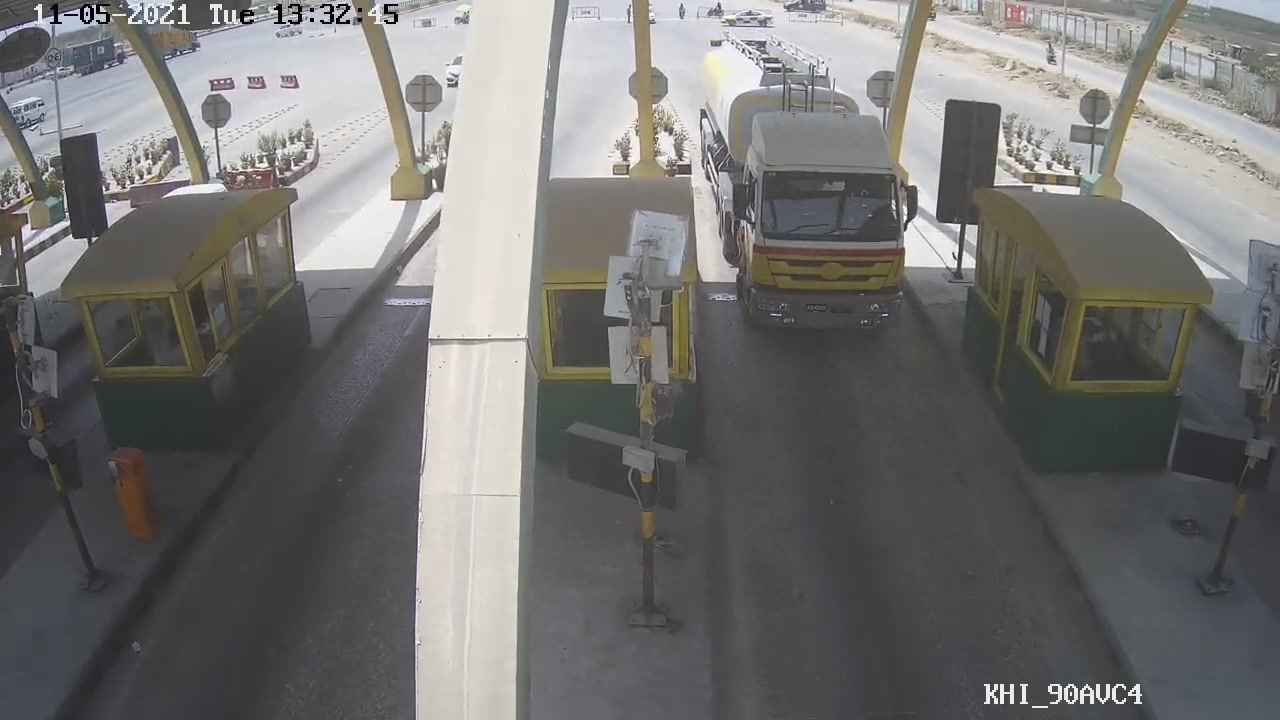F6: (695, 28, 926, 336)
